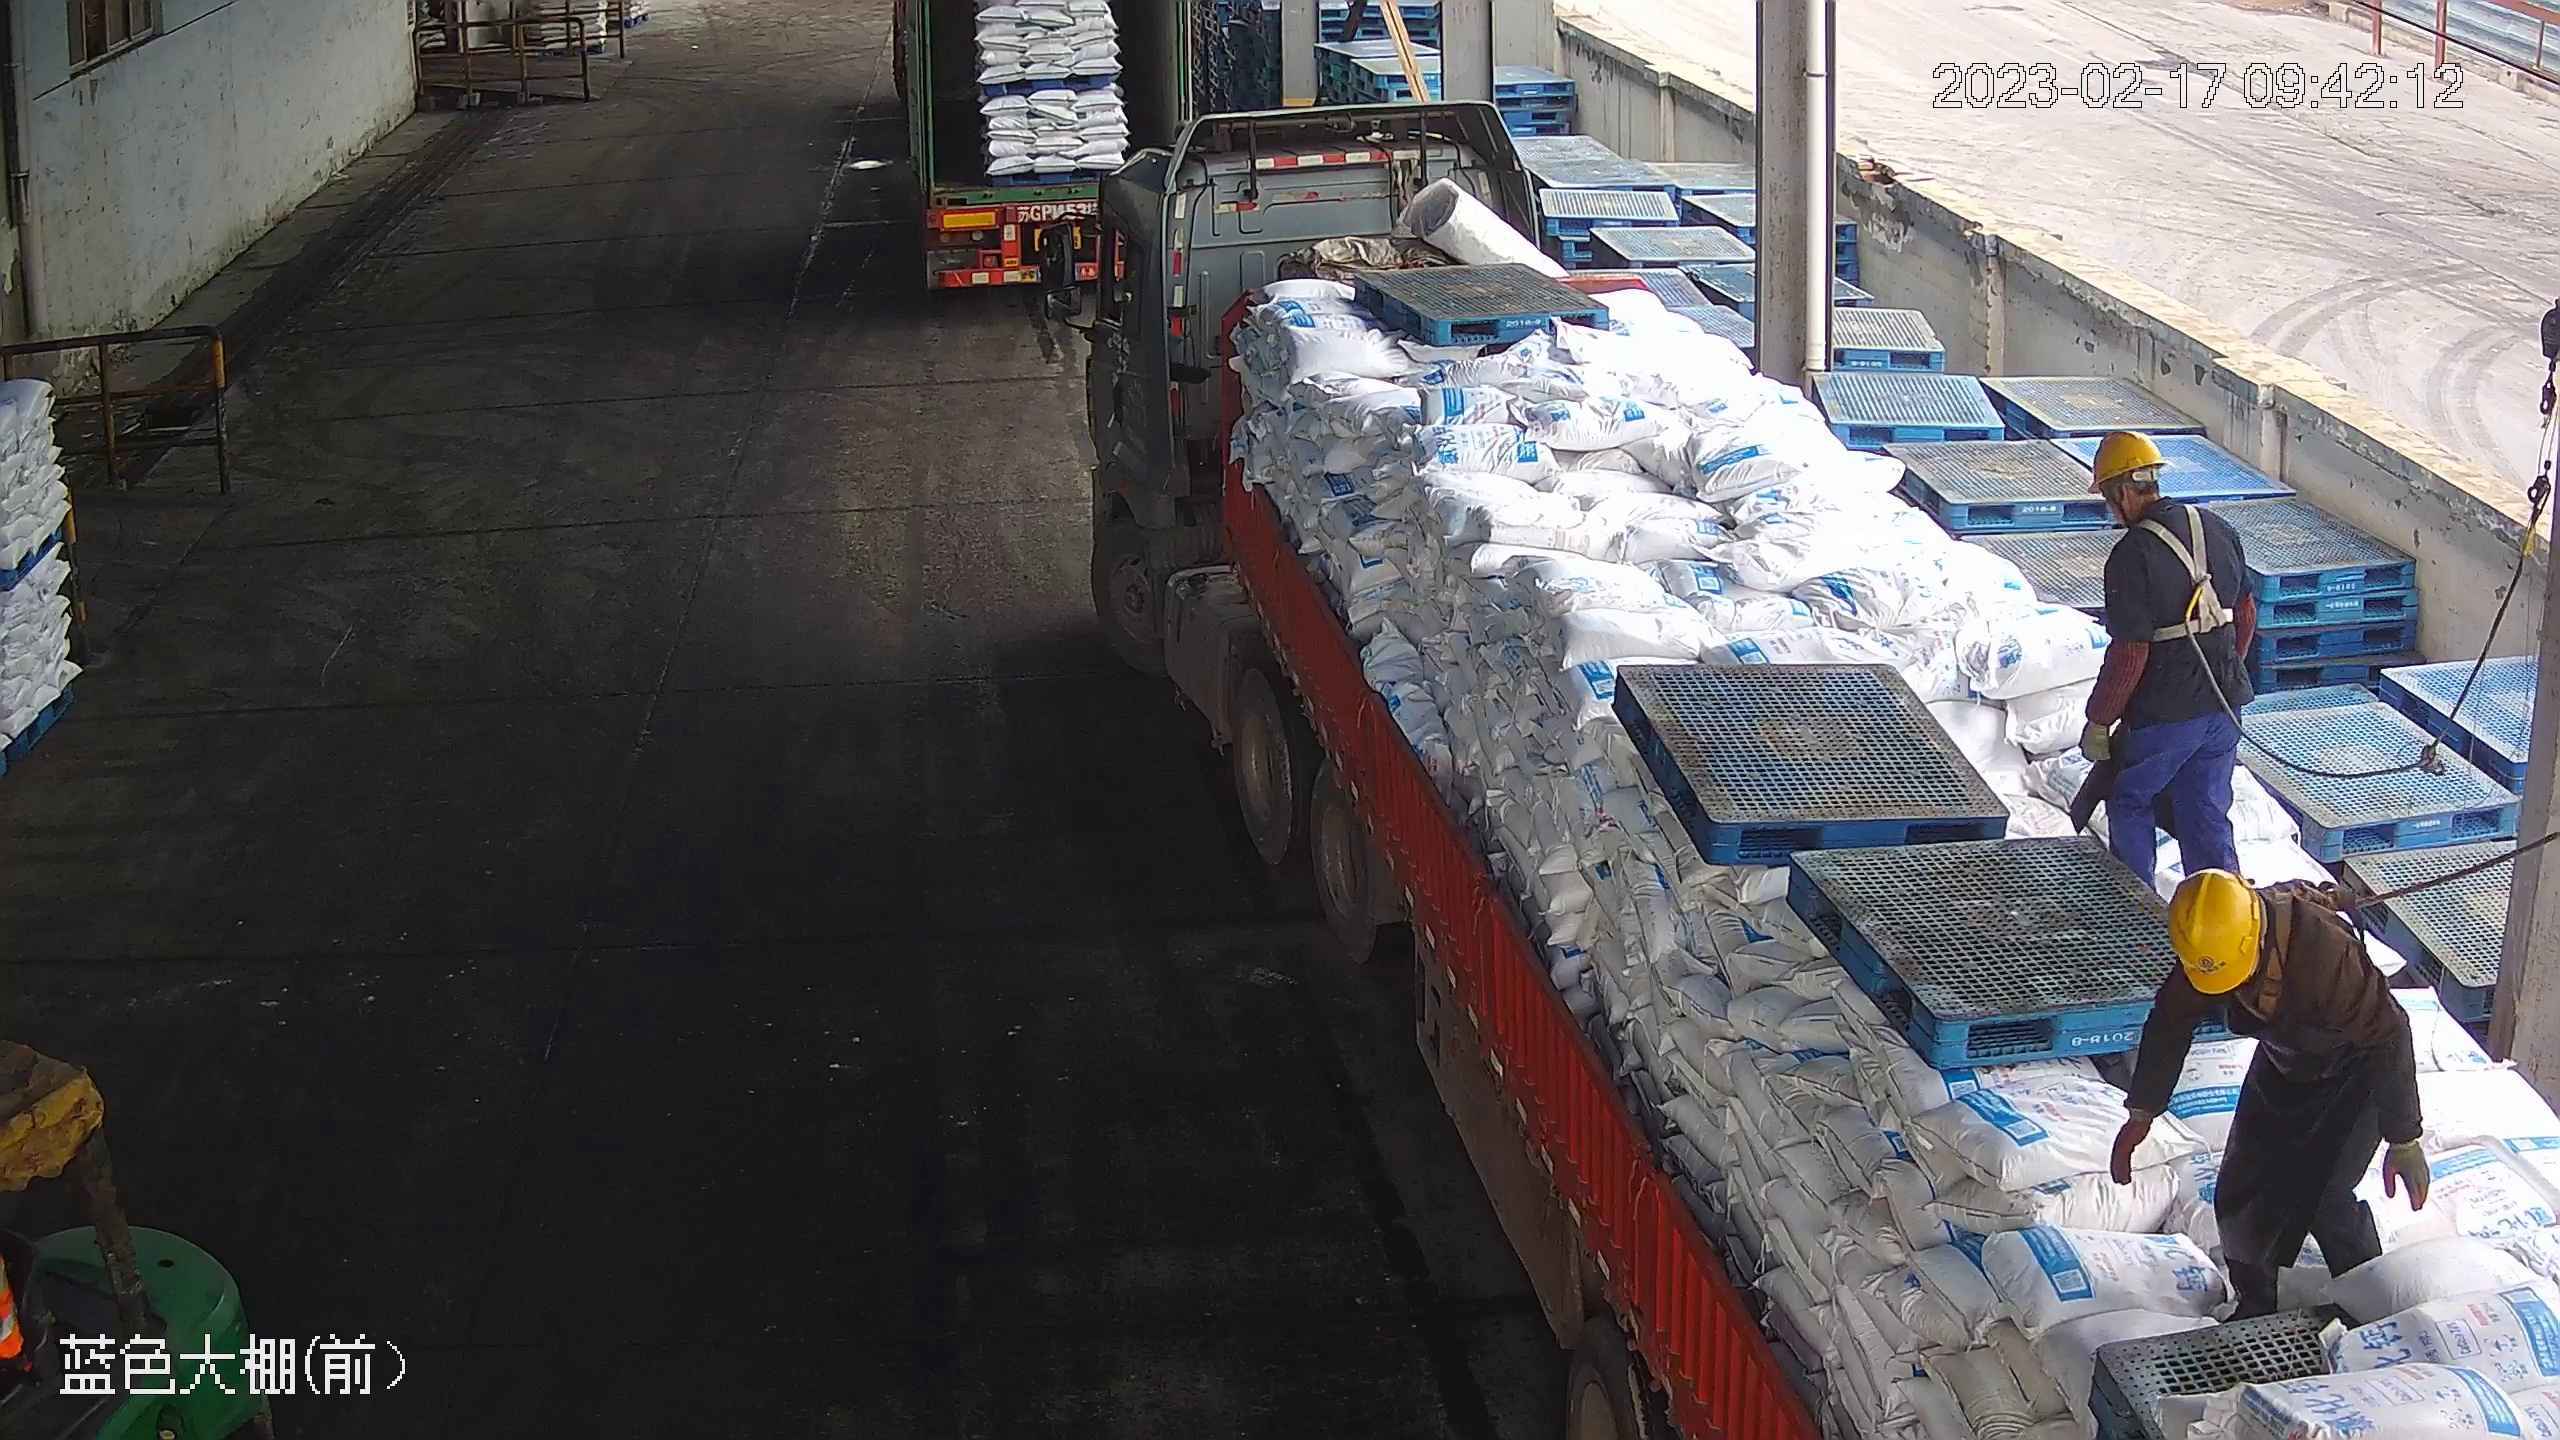belt: (2241, 867, 2350, 1024), (2132, 504, 2244, 645)
head: (2158, 867, 2346, 1022), (2085, 427, 2252, 588)
helmet: (2166, 866, 2263, 996), (2084, 426, 2167, 493)
people: (2105, 863, 2430, 1322), (2064, 425, 2260, 889)
truck: (1032, 95, 2553, 1437), (888, 2, 1187, 296)
